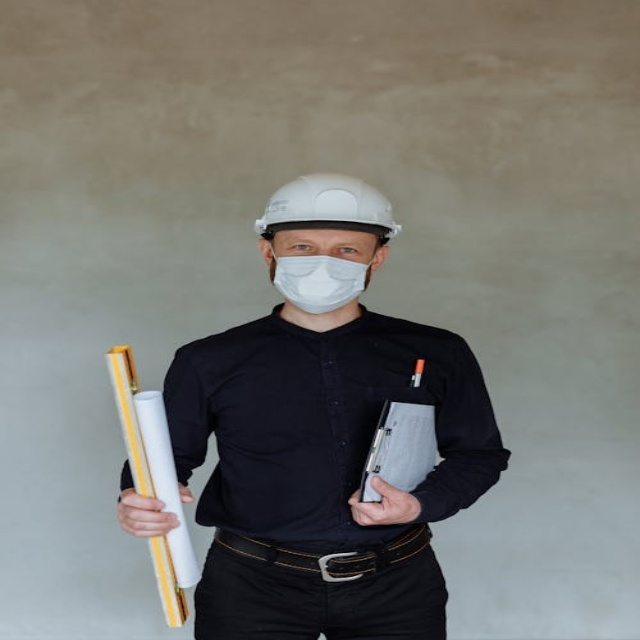Mascara: (269, 248, 373, 313)
Sin_gafas: (280, 235, 366, 261)
Sin_guantes: (343, 468, 425, 531), (116, 484, 184, 538)
